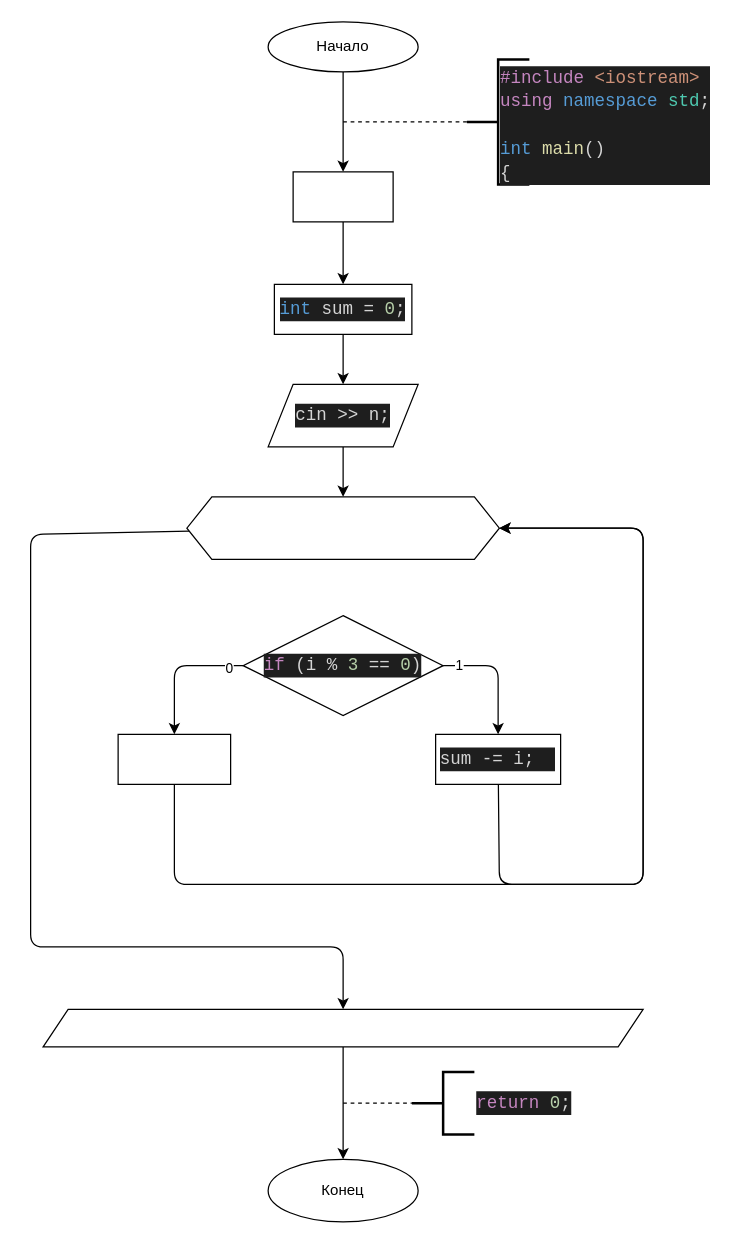
Image size: 745x1244. Some labels were removed from this diagram. The shapes that lost their labels are listed below. From the top down, each one's centre as x and y in pixels, then its label:
point 342,196: int n;
point 342,527: for ( int i = 1 ; i <= n; i++)
point 174,758: sum += i;
point 342,1027: cout << "Сумма последовательности: " << sum << endl;
